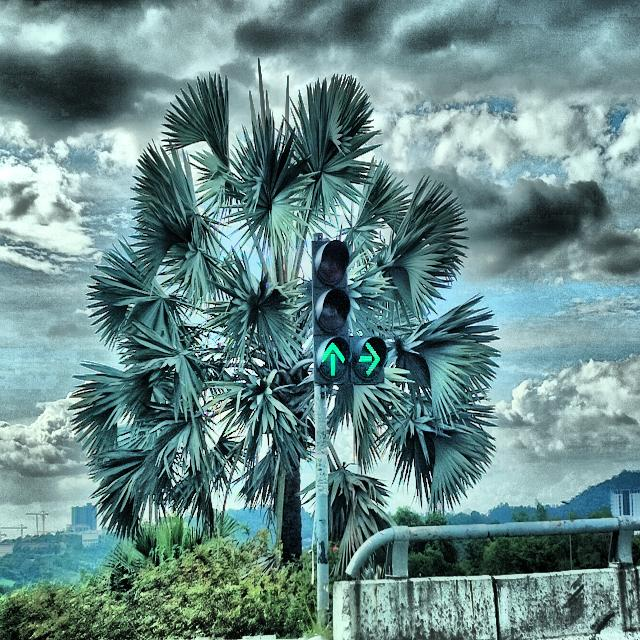green: (316, 239, 351, 385), (350, 240, 384, 386)
